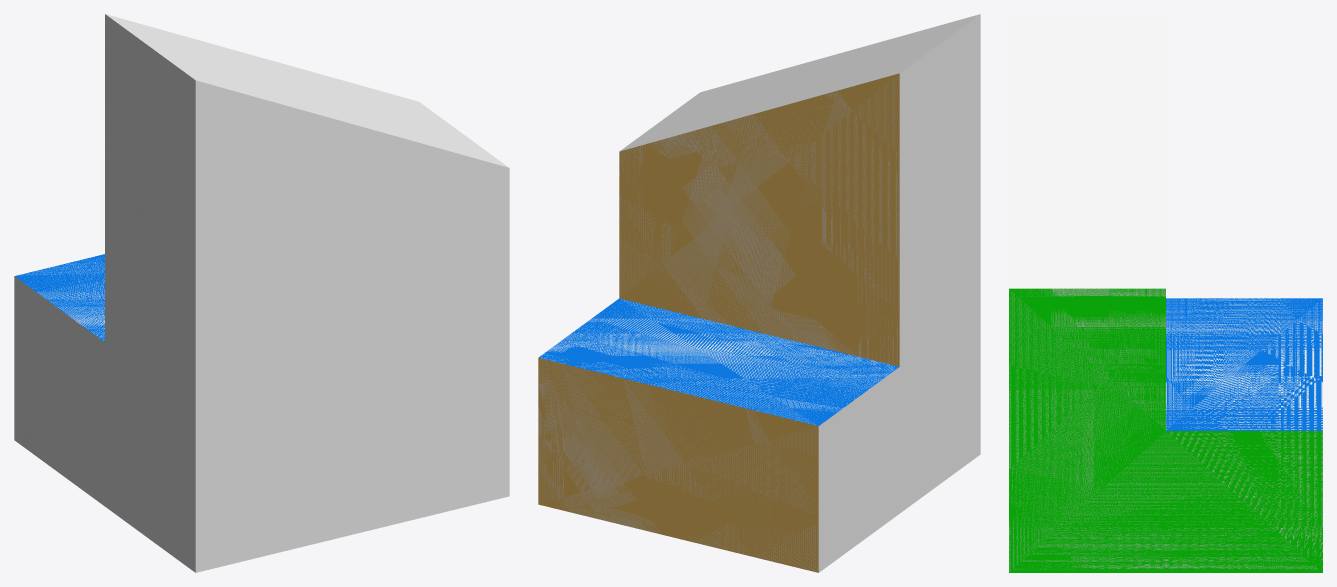
File: Figura3.dae
3 views of the same model, side by side, from view 1: azimuth 30°, elevation 25°; view 2: azimuth 150°, elevation 25°; view 3: azimuth 270°, elevation 25° (orthographic). The views are drawn at different scales.
Parts seen in each view (by area): view 1: SketchUp (×3); view 2: SketchUp (×5); view 3: SketchUp (×3).
Part boxes in pixels (box(x1,y1,x2,y2)): SketchUp (×3): box(14, 14, 509, 572); SketchUp (×5): box(538, 14, 980, 572); SketchUp (×3): box(1009, 14, 1322, 572).
Bounding box in the file's own units: 15.75 × 15.75 × 23.62.
